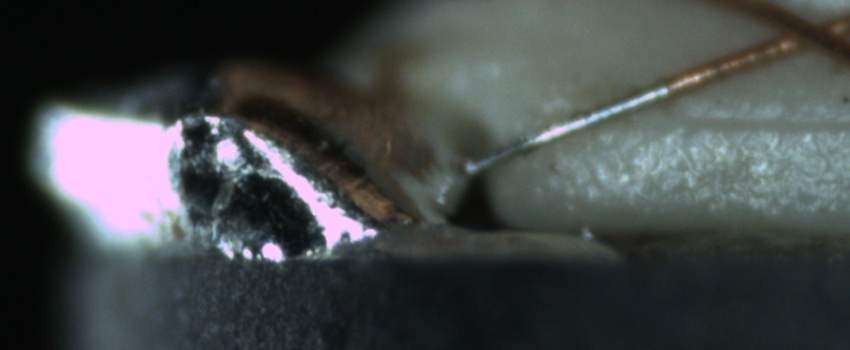CL: (757, 3, 846, 60)
DL: (634, 90, 849, 158)
TS: (453, 78, 669, 177)
